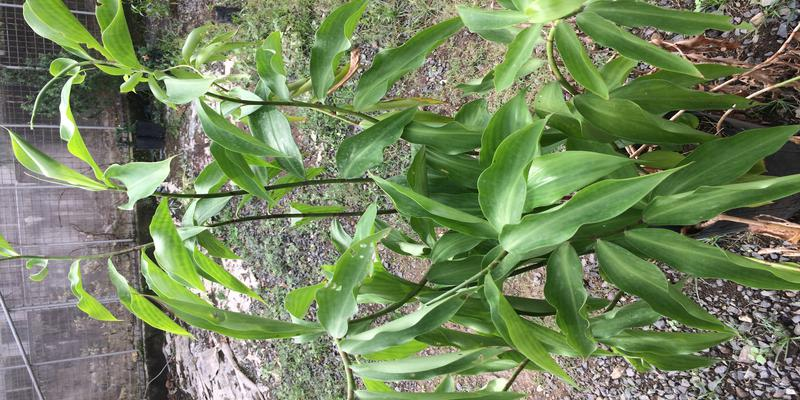Insulin: (100, 41, 774, 348)
